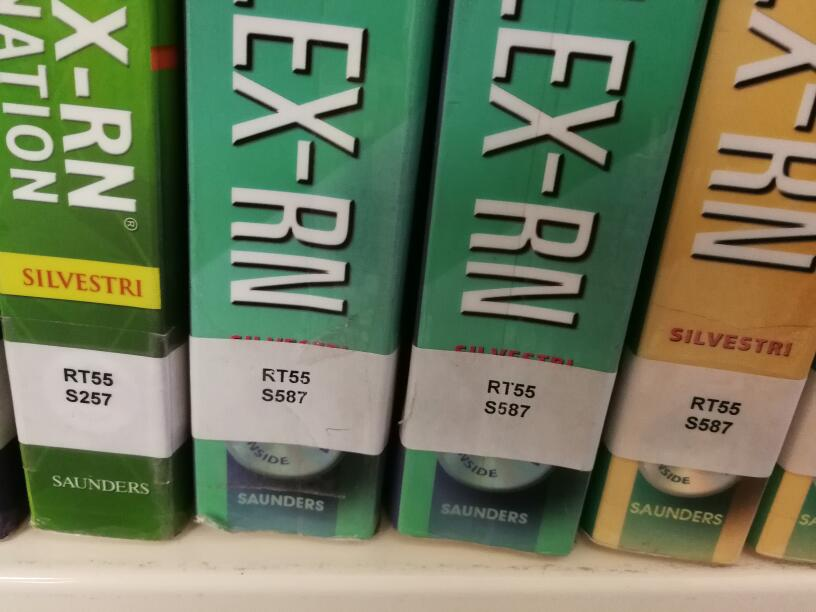booklabel: (683, 391, 743, 435), (61, 364, 116, 411), (482, 376, 538, 419), (259, 365, 312, 406)
